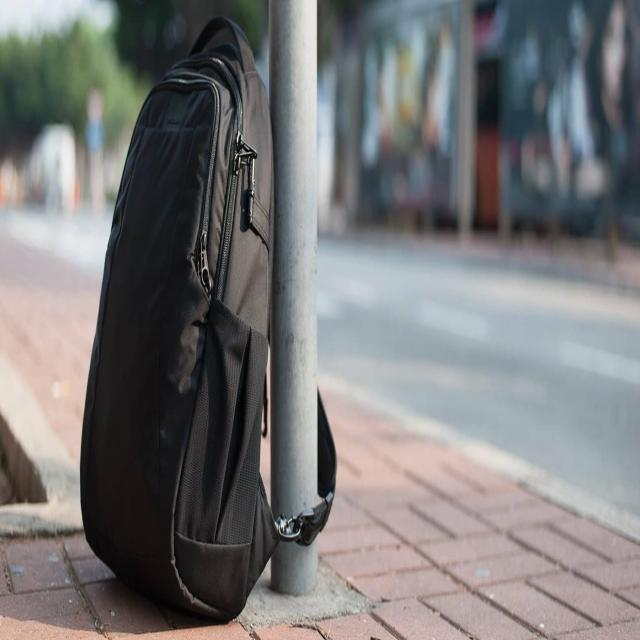Backpacks: (80, 13, 276, 620)
